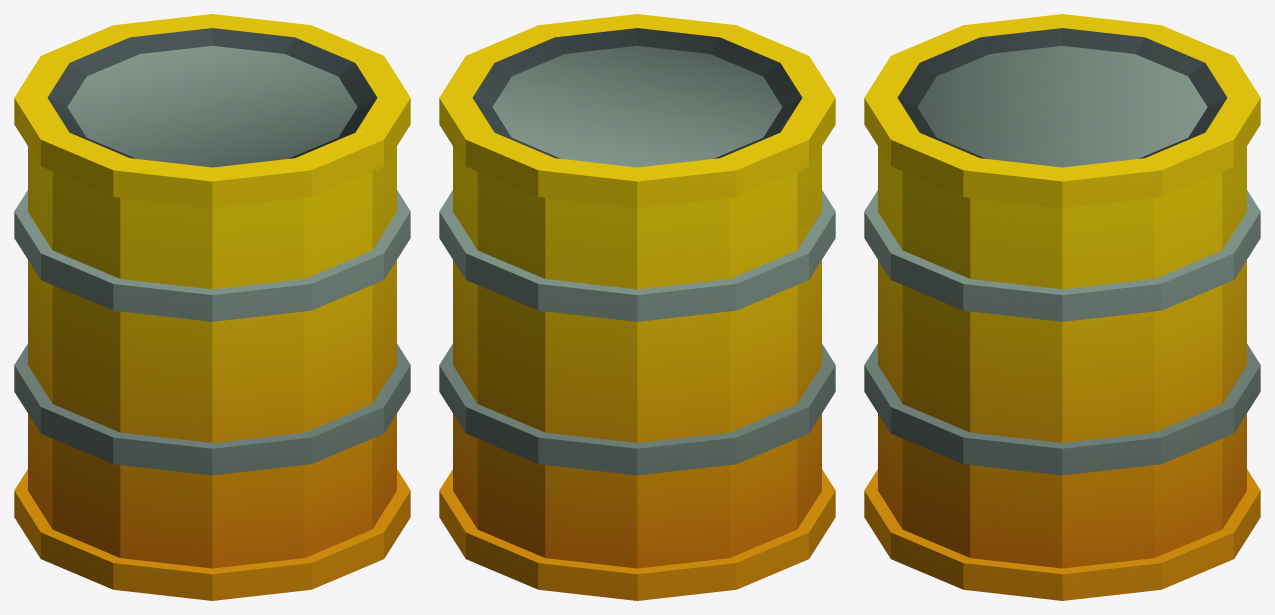
The model's file is barrel_006.fbx.
3 views of the same model, side by side, from view 1: azimuth 30°, elevation 25°; view 2: azimuth 150°, elevation 25°; view 3: azimuth 270°, elevation 25° (orthographic).
Visible parts, largest first — view 1: barrel.006; view 2: barrel.006; view 3: barrel.006.
Boxes of the visible parts, bbox=[...] form: barrel.006: bbox=[14, 14, 410, 600]; barrel.006: bbox=[439, 14, 835, 600]; barrel.006: bbox=[864, 14, 1260, 600].
Bounding box in the file's own units: 108 × 126 × 108.
